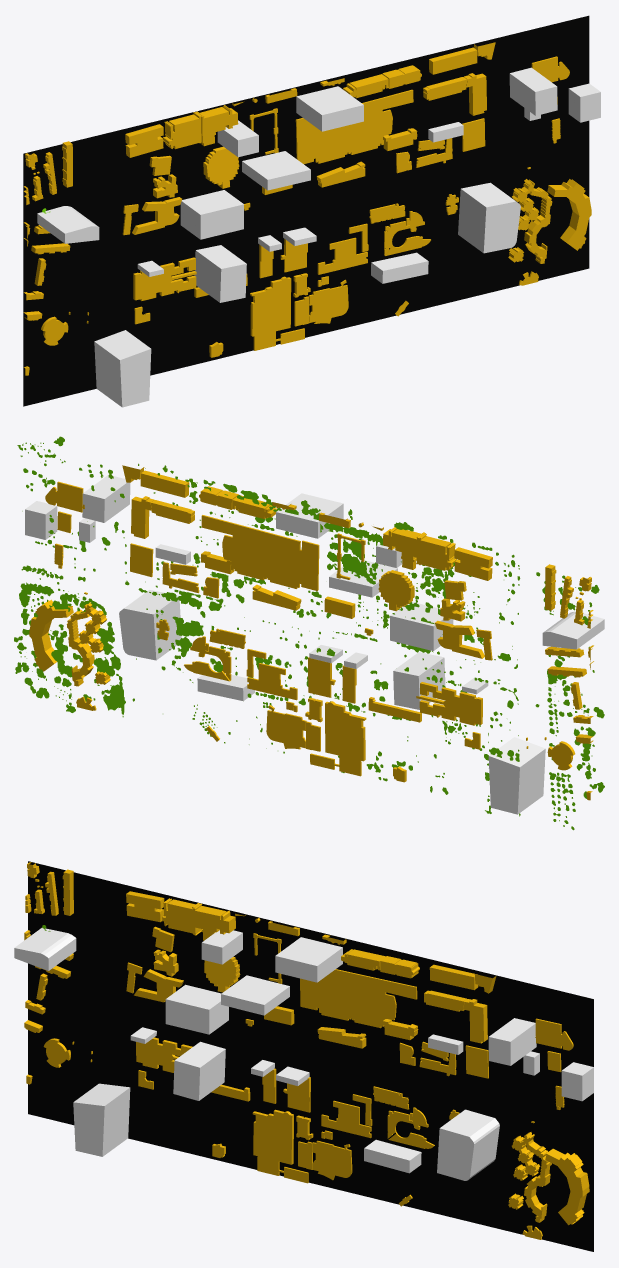
The model's file is new_high_buildings_03.glb.
3 renders of one model, top to bottom at view 1: azimuth 30°, elevation 25°; view 2: azimuth 150°, elevation 25°; view 3: azimuth 330°, elevation 25°, orthographic.
Visible parts, largest first — view 1: Layer 04, existing_building - Copy, new buildings; view 2: existing_building - Copy, new buildings, treesurface; view 3: Layer 04, existing_building - Copy, new buildings.
Boxes of the visible parts, bbox=[...] form: Layer 04: bbox=[23, 15, 589, 406]; existing_building - Copy: bbox=[23, 42, 591, 375]; new buildings: bbox=[37, 67, 600, 407]; existing_building - Copy: bbox=[29, 465, 593, 800]; new buildings: bbox=[25, 474, 604, 814]; treesurface: bbox=[14, 436, 604, 830]; Layer 04: bbox=[28, 861, 593, 1251]; existing_building - Copy: bbox=[24, 862, 589, 1239]; new buildings: bbox=[14, 928, 593, 1180].
Bounding box in the file's own units: 1035 × 458 × 84.18.
